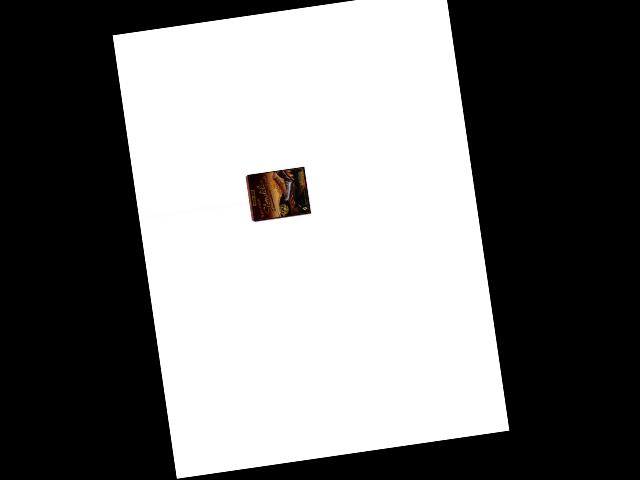chocolate: (245, 166, 311, 222)
